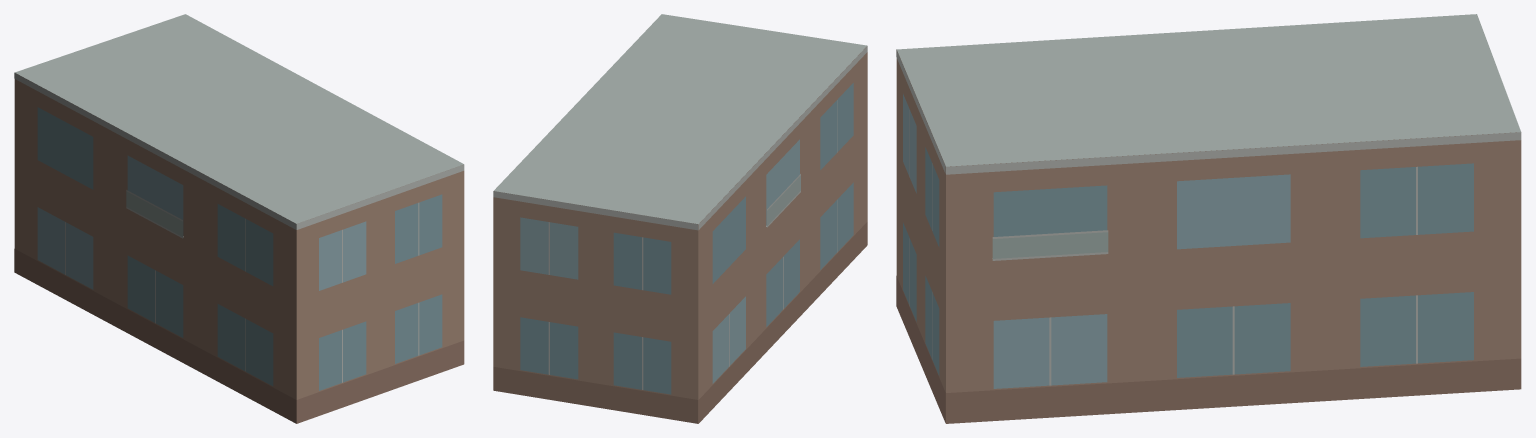
File: survey-upis-32702226.glb
The picture shows the model from 3 angles, left to right: view 1: azimuth 30°, elevation 25°; view 2: azimuth 150°, elevation 25°; view 3: azimuth 270°, elevation 25°; orthographic projection. The views are drawn at different scales.
Parts seen in each view (by area): view 1: survey-upis-32702226.tmp; view 2: survey-upis-32702226.tmp; view 3: survey-upis-32702226.tmp.
Boxes of the visible parts, box(x1,y1,x2,y2) form: survey-upis-32702226.tmp: box(14, 14, 464, 423); survey-upis-32702226.tmp: box(493, 14, 867, 423); survey-upis-32702226.tmp: box(896, 14, 1521, 423).
Bounding box in the file's own units: 9.94 × 7.8 × 17.18.
